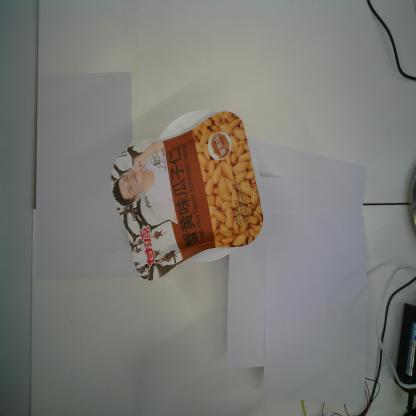Dried Fruit: (110, 110, 264, 282)
